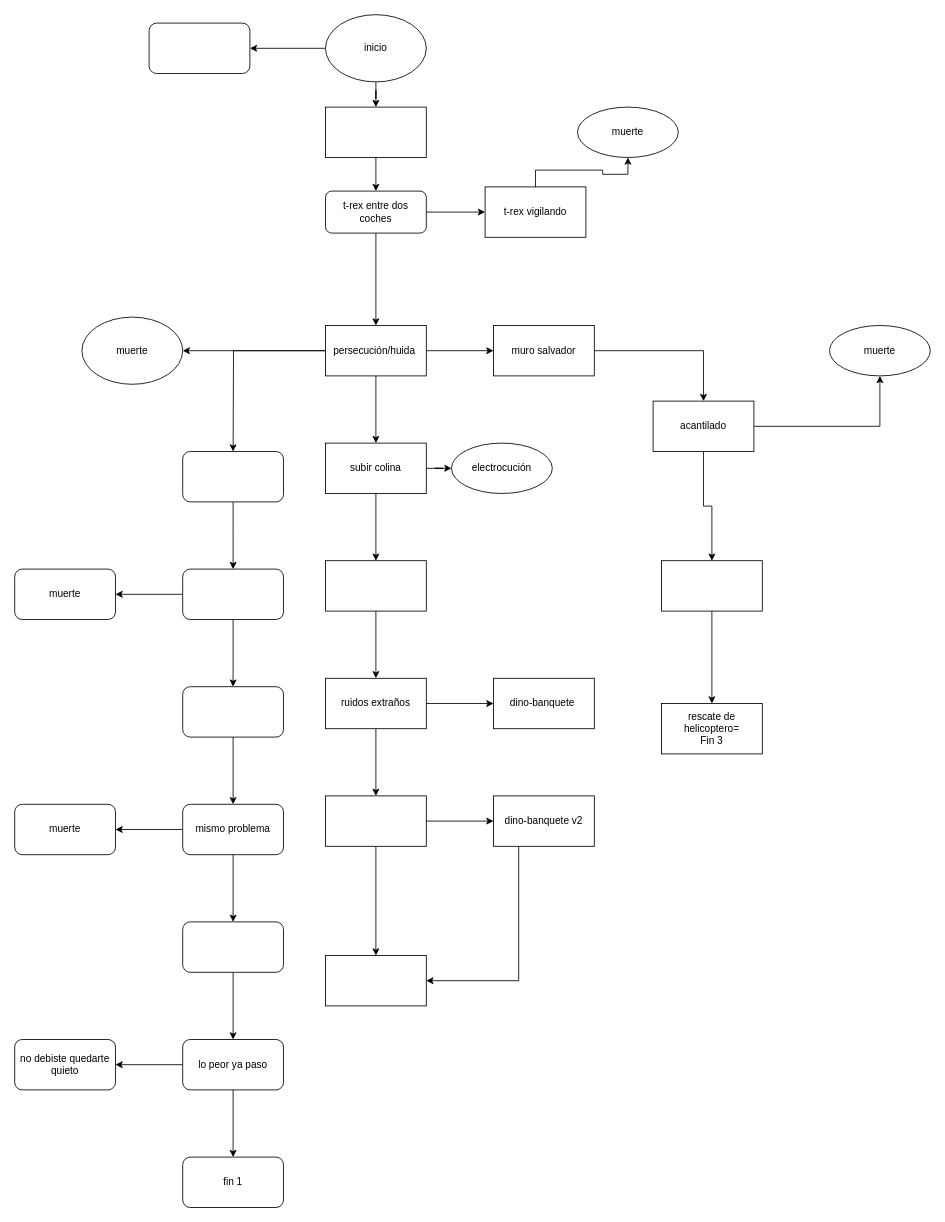
Some shapes in this 945 by 1222 pixel diagram are drawn without their labels. Here are the shapes that lost their labels. From the top down, the centre of each, then its label:
the point at 199,48: creditos
the point at 375,132: historia
the point at 233,476: choque multiple
the point at 233,594: problema 2
the point at 375,585: arbolito
the point at 711,585: puente
the point at 233,711: laboratorio
the point at 375,820: vago jacky
the point at 233,946: salvacion
the point at 375,980: fin 2
